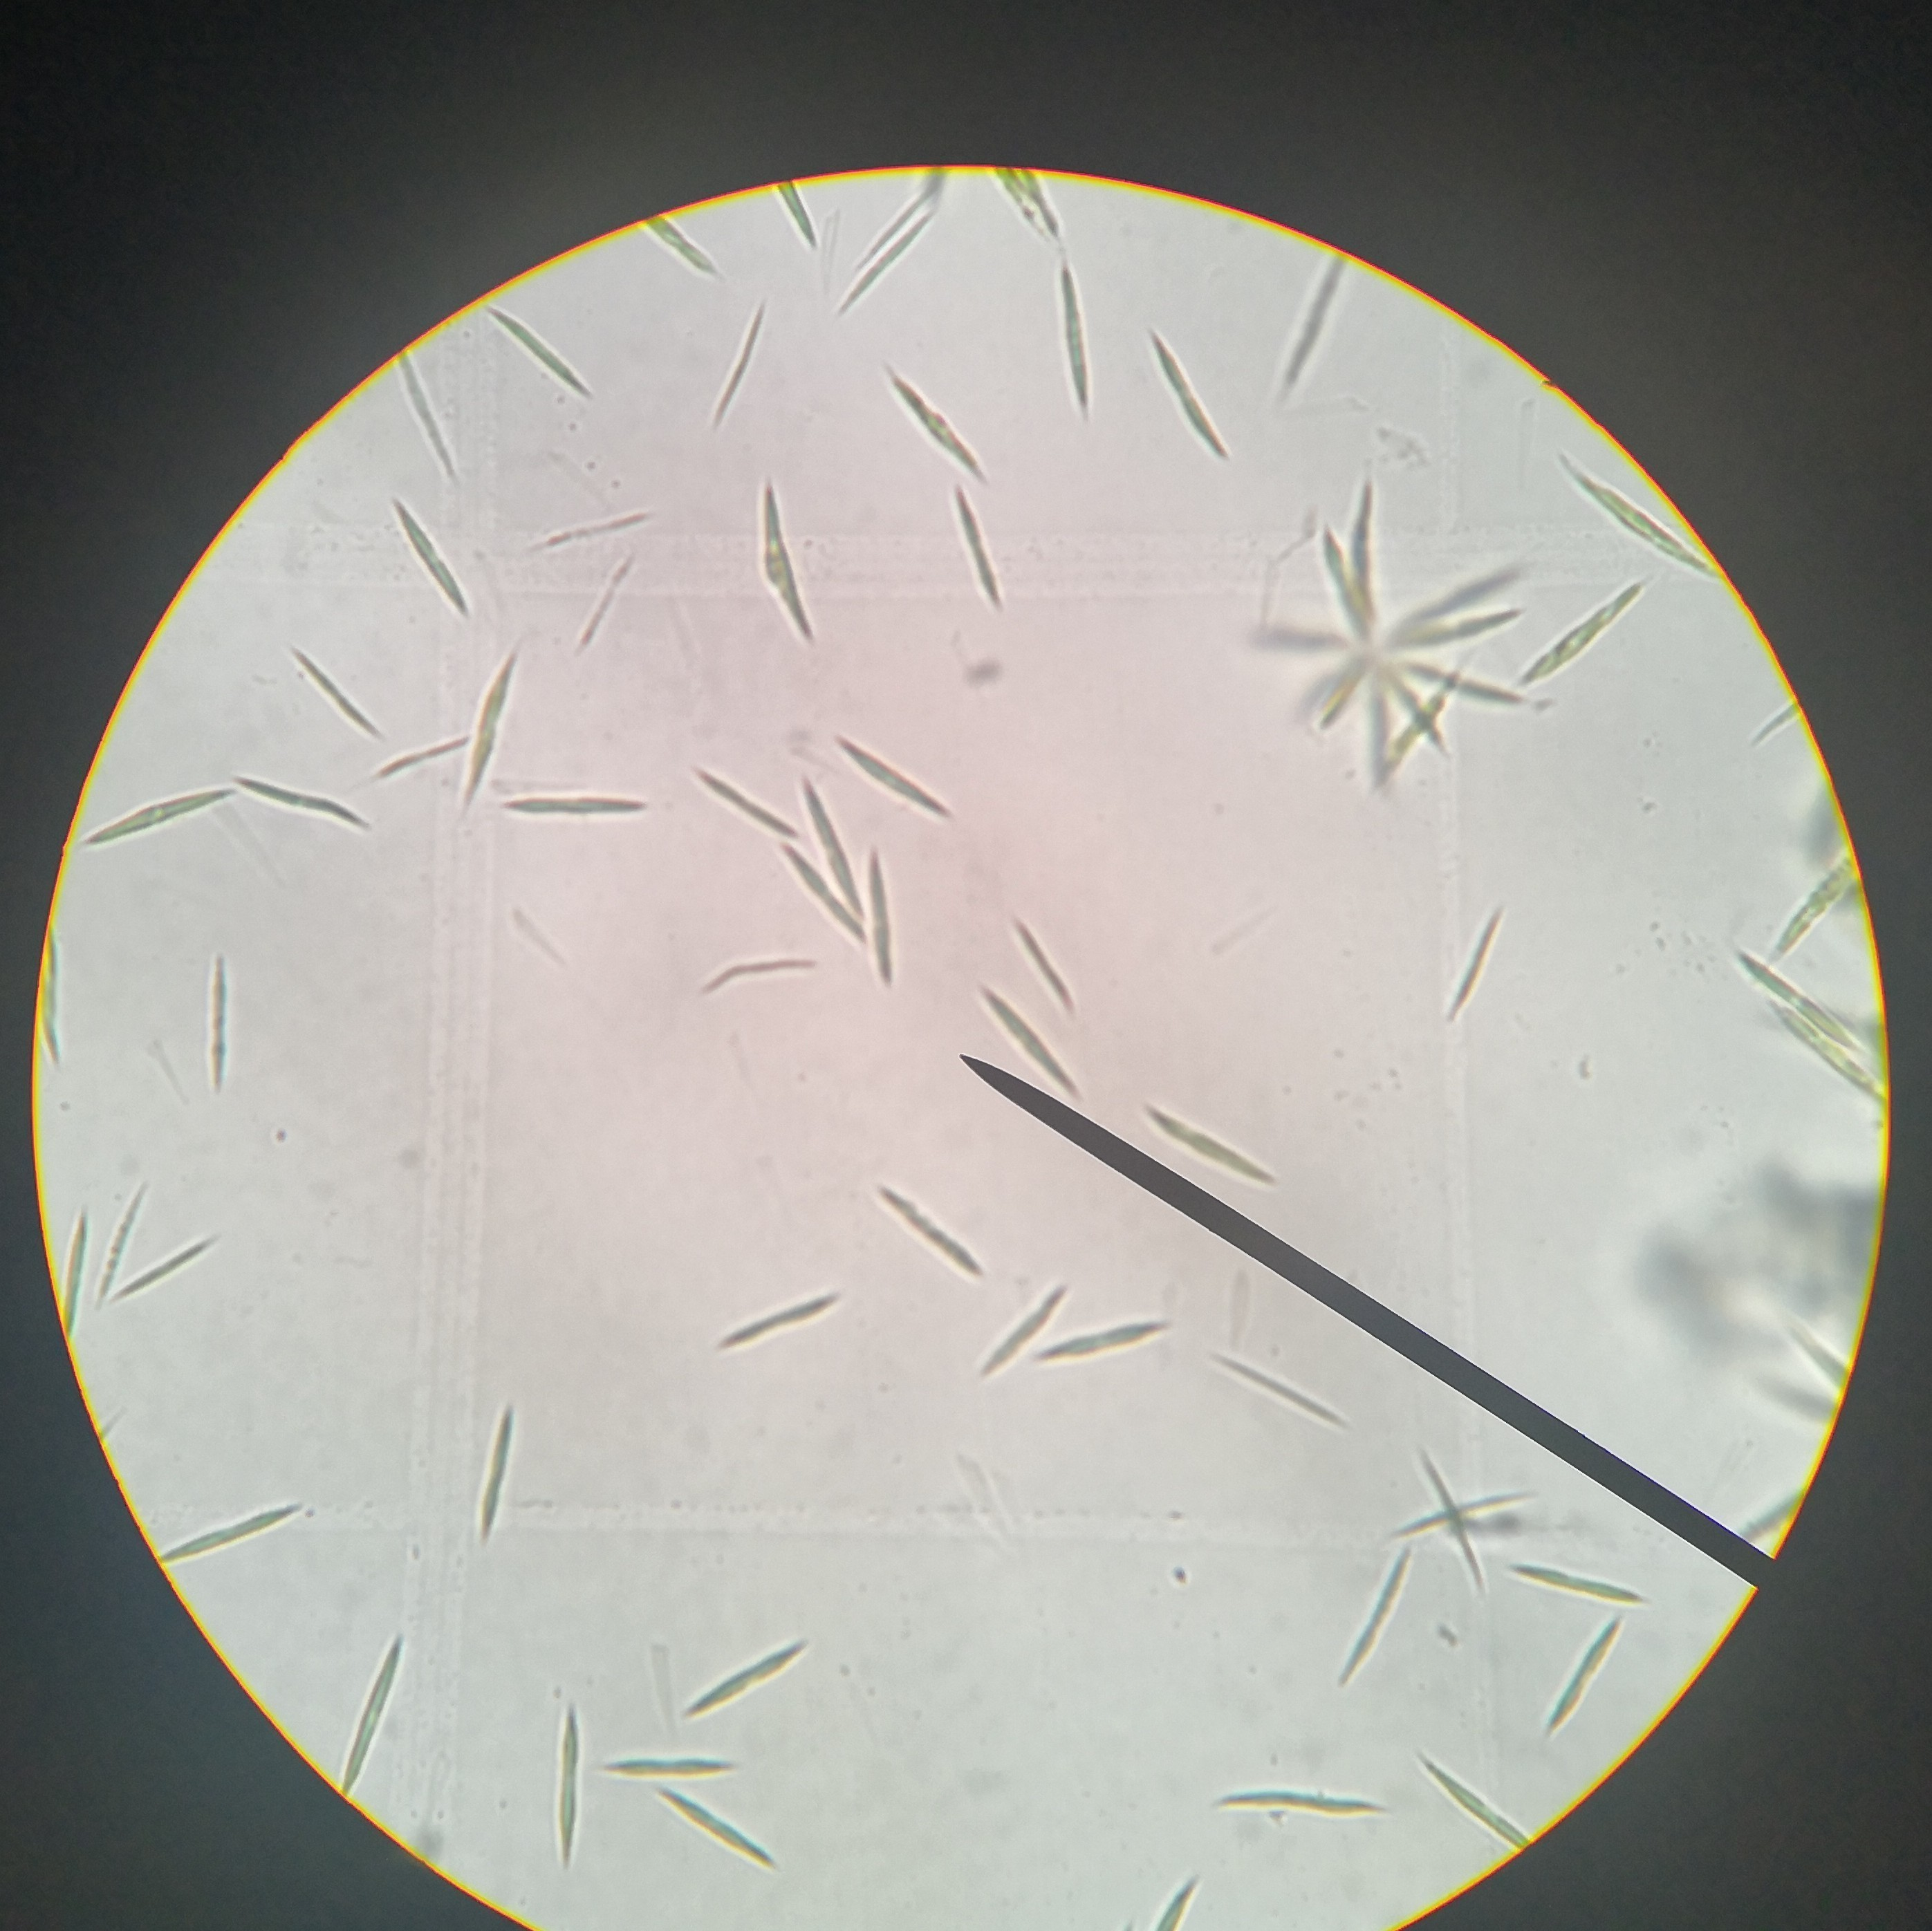Microalgae: (1559, 463, 1704, 564), (1323, 1531, 1424, 1675), (1734, 944, 1863, 1056), (968, 990, 1092, 1102), (837, 711, 952, 828), (837, 187, 938, 317), (1773, 1015, 1893, 1123), (446, 649, 525, 803), (1408, 1754, 1522, 1858), (886, 375, 989, 486), (1215, 1355, 1355, 1436), (1527, 576, 1644, 674), (329, 1632, 398, 1795), (73, 780, 221, 854), (449, 1402, 525, 1542), (111, 1225, 232, 1312), (878, 1188, 982, 1282), (1773, 840, 1859, 951), (1412, 1445, 1486, 1572), (1146, 340, 1230, 451), (975, 1282, 1060, 1386), (488, 304, 589, 391), (702, 301, 770, 430), (685, 1645, 807, 1713), (1539, 1630, 1612, 1745), (757, 485, 810, 635), (154, 1510, 295, 1565), (1205, 1772, 1385, 1814), (543, 1694, 587, 1866), (725, 1293, 847, 1355), (655, 1795, 770, 1860), (237, 776, 370, 833), (402, 343, 458, 476), (92, 1181, 152, 1303), (393, 502, 465, 603), (1159, 1118, 1272, 1181), (561, 550, 628, 656), (502, 783, 646, 831), (1323, 532, 1382, 644), (288, 656, 373, 732), (1283, 260, 1339, 373), (1385, 668, 1460, 753), (1507, 1560, 1644, 1606), (198, 951, 244, 1088), (708, 944, 823, 996), (1454, 909, 1506, 1020), (628, 205, 713, 272), (954, 488, 1000, 612), (702, 769, 793, 831), (1056, 255, 1090, 419), (985, 157, 1065, 226), (1746, 1478, 1815, 1554), (1796, 1332, 1867, 1401), (527, 499, 651, 538), (57, 1204, 88, 1339), (1123, 1874, 1198, 1931), (1042, 1317, 1164, 1351), (41, 928, 69, 1065), (1414, 612, 1514, 644), (862, 831, 883, 973), (1316, 674, 1369, 720), (778, 175, 814, 240), (600, 1767, 754, 1779)
